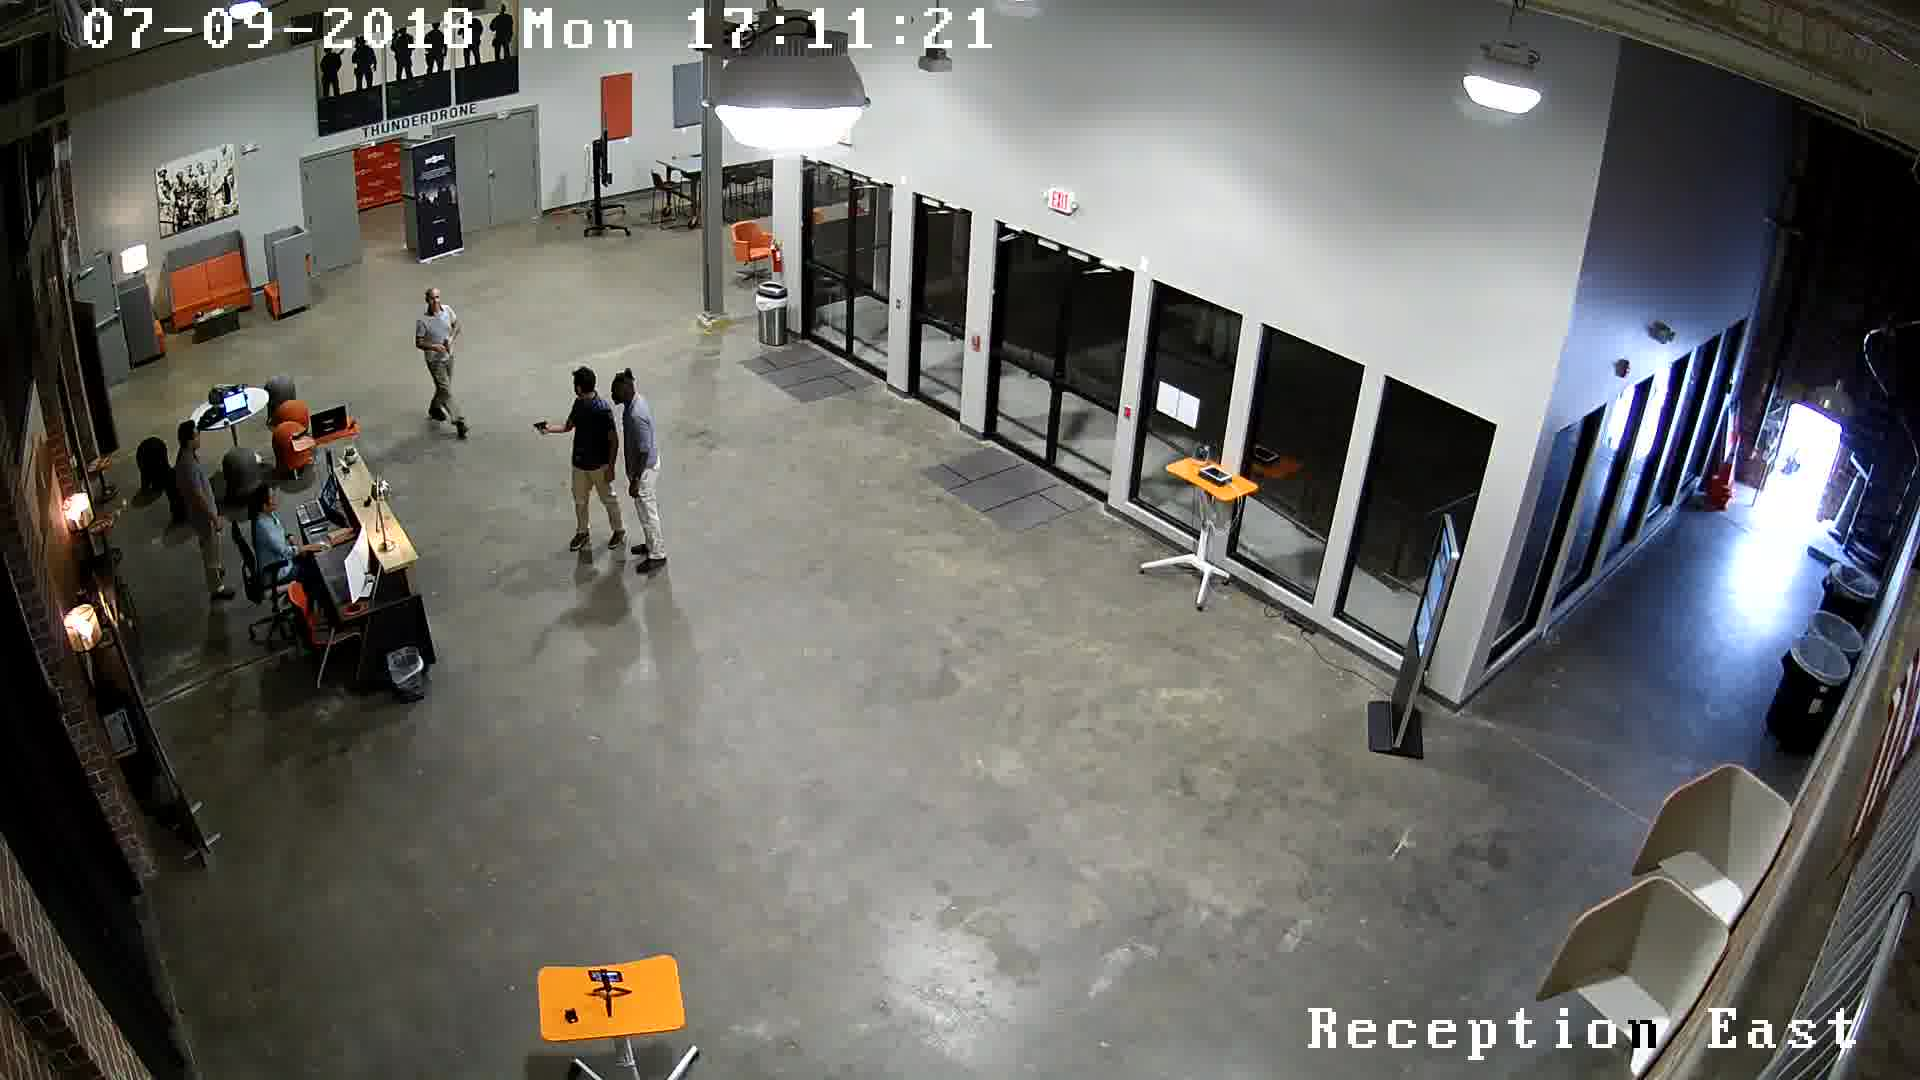pistol: (516, 401, 566, 448), (427, 334, 459, 371)
